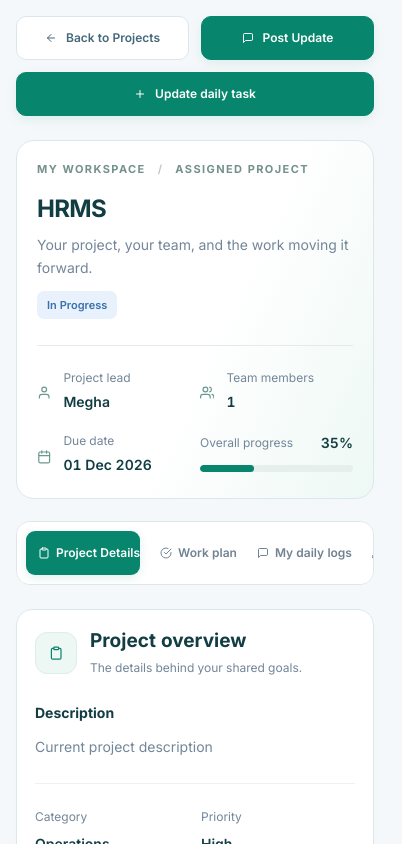
Test: assigned employee project workspace › updates today’s existing entry instead of creating a duplicate
Step 1. Click the button "Update daily task" → point(195, 94), box [16,72,374,116]
(page scrolled)
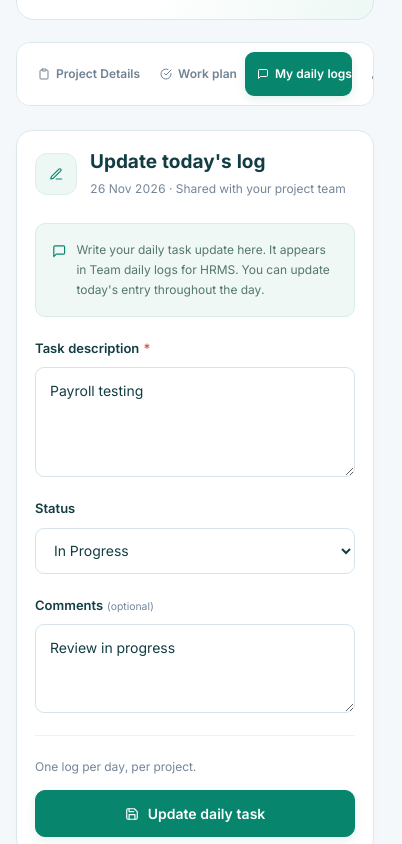
Now the text box showing "Payroll testing" is shown
Now the button "Update daily task" is enabled, box [35,790,355,837]
Step 2. Replace the text in the text box labelled "Task description *" with "Payroll tests complete" → point(195, 422), box [35,367,355,477]
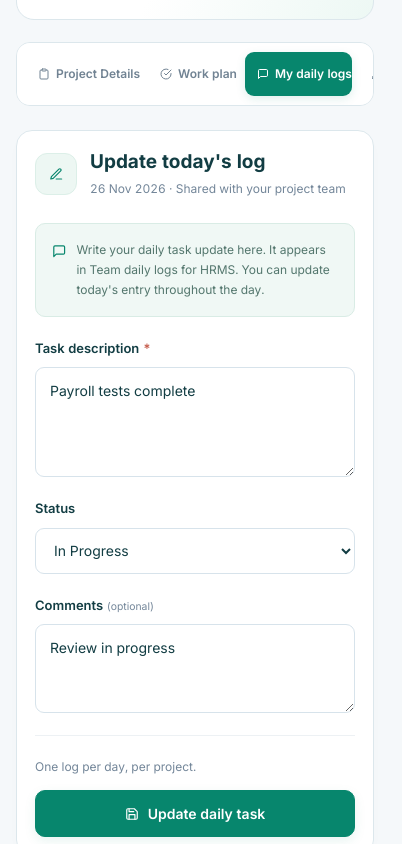
Step 3. Clear the text box labelled "Comments (optional)" → point(195, 669), box [35,624,355,713]
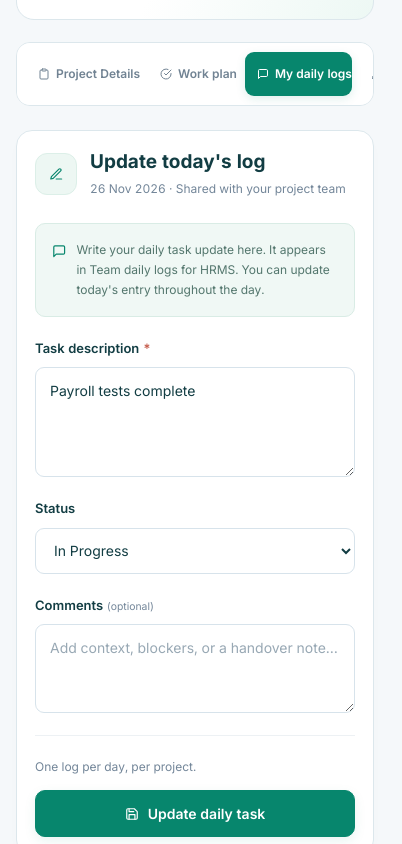
Step 4. Click the button "Update daily task" → point(195, 814), box [35,790,355,837]
(page scrolled)
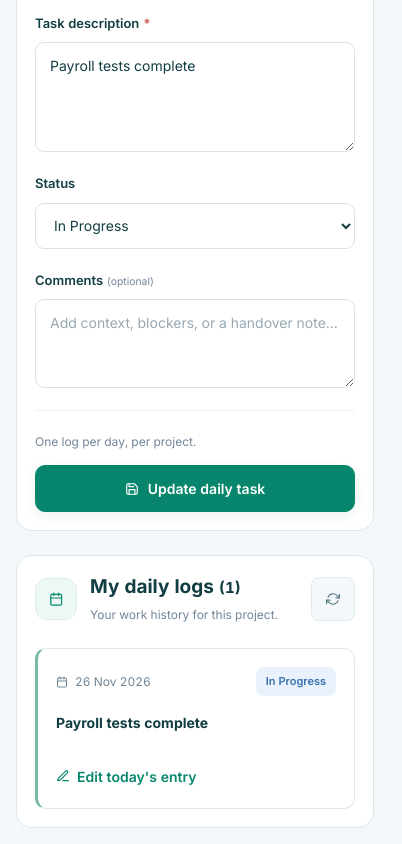
Now the heading "Payroll tests complete" is shown, box [56,714,208,731]
